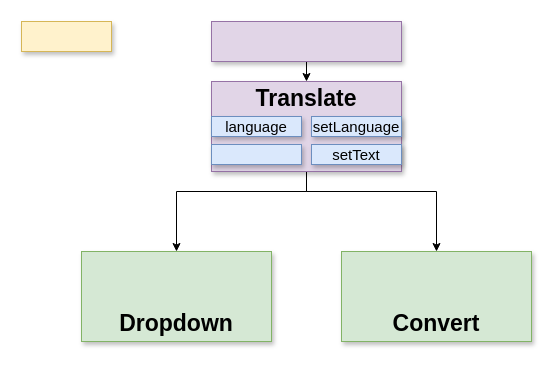
The diagram is 555 pixels wide and 366 high, and some of its shapes have lost their labels. Each missing label, with the centre of its shape:
App: pixel 307 42
State: pixel 67 37
text: pixel 257 156
